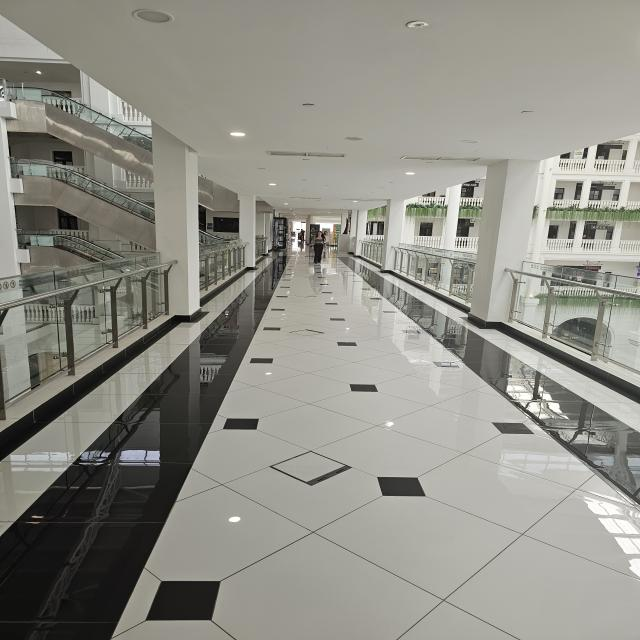footpath: (110, 321, 625, 639)
person: (309, 230, 326, 264), (298, 229, 306, 250)
